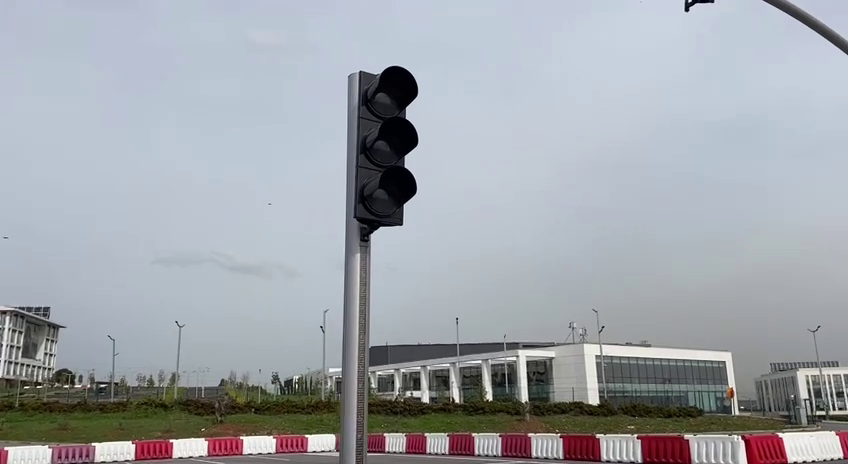trafficLight: (339, 62, 423, 233)
